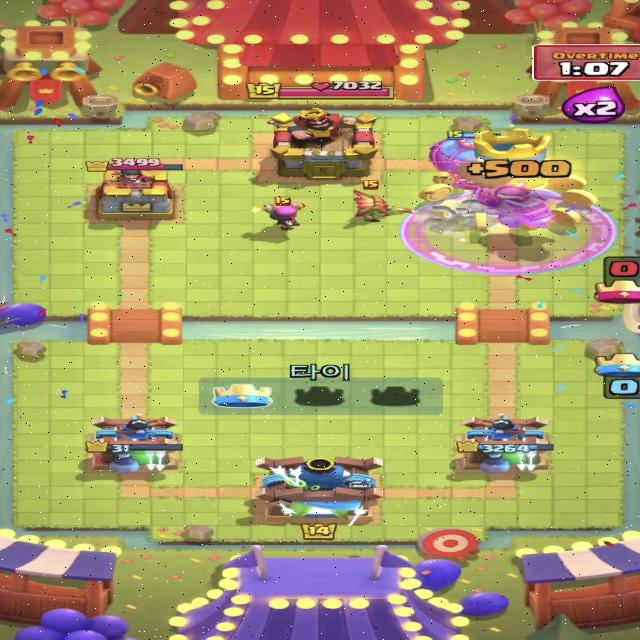Enemy-DartGoblin: (352, 178, 420, 224)
Enemy-Firecracker: (250, 195, 311, 232)
Player-Balloon: (426, 129, 528, 192)
Player-InfernoDragon: (470, 180, 564, 230)
